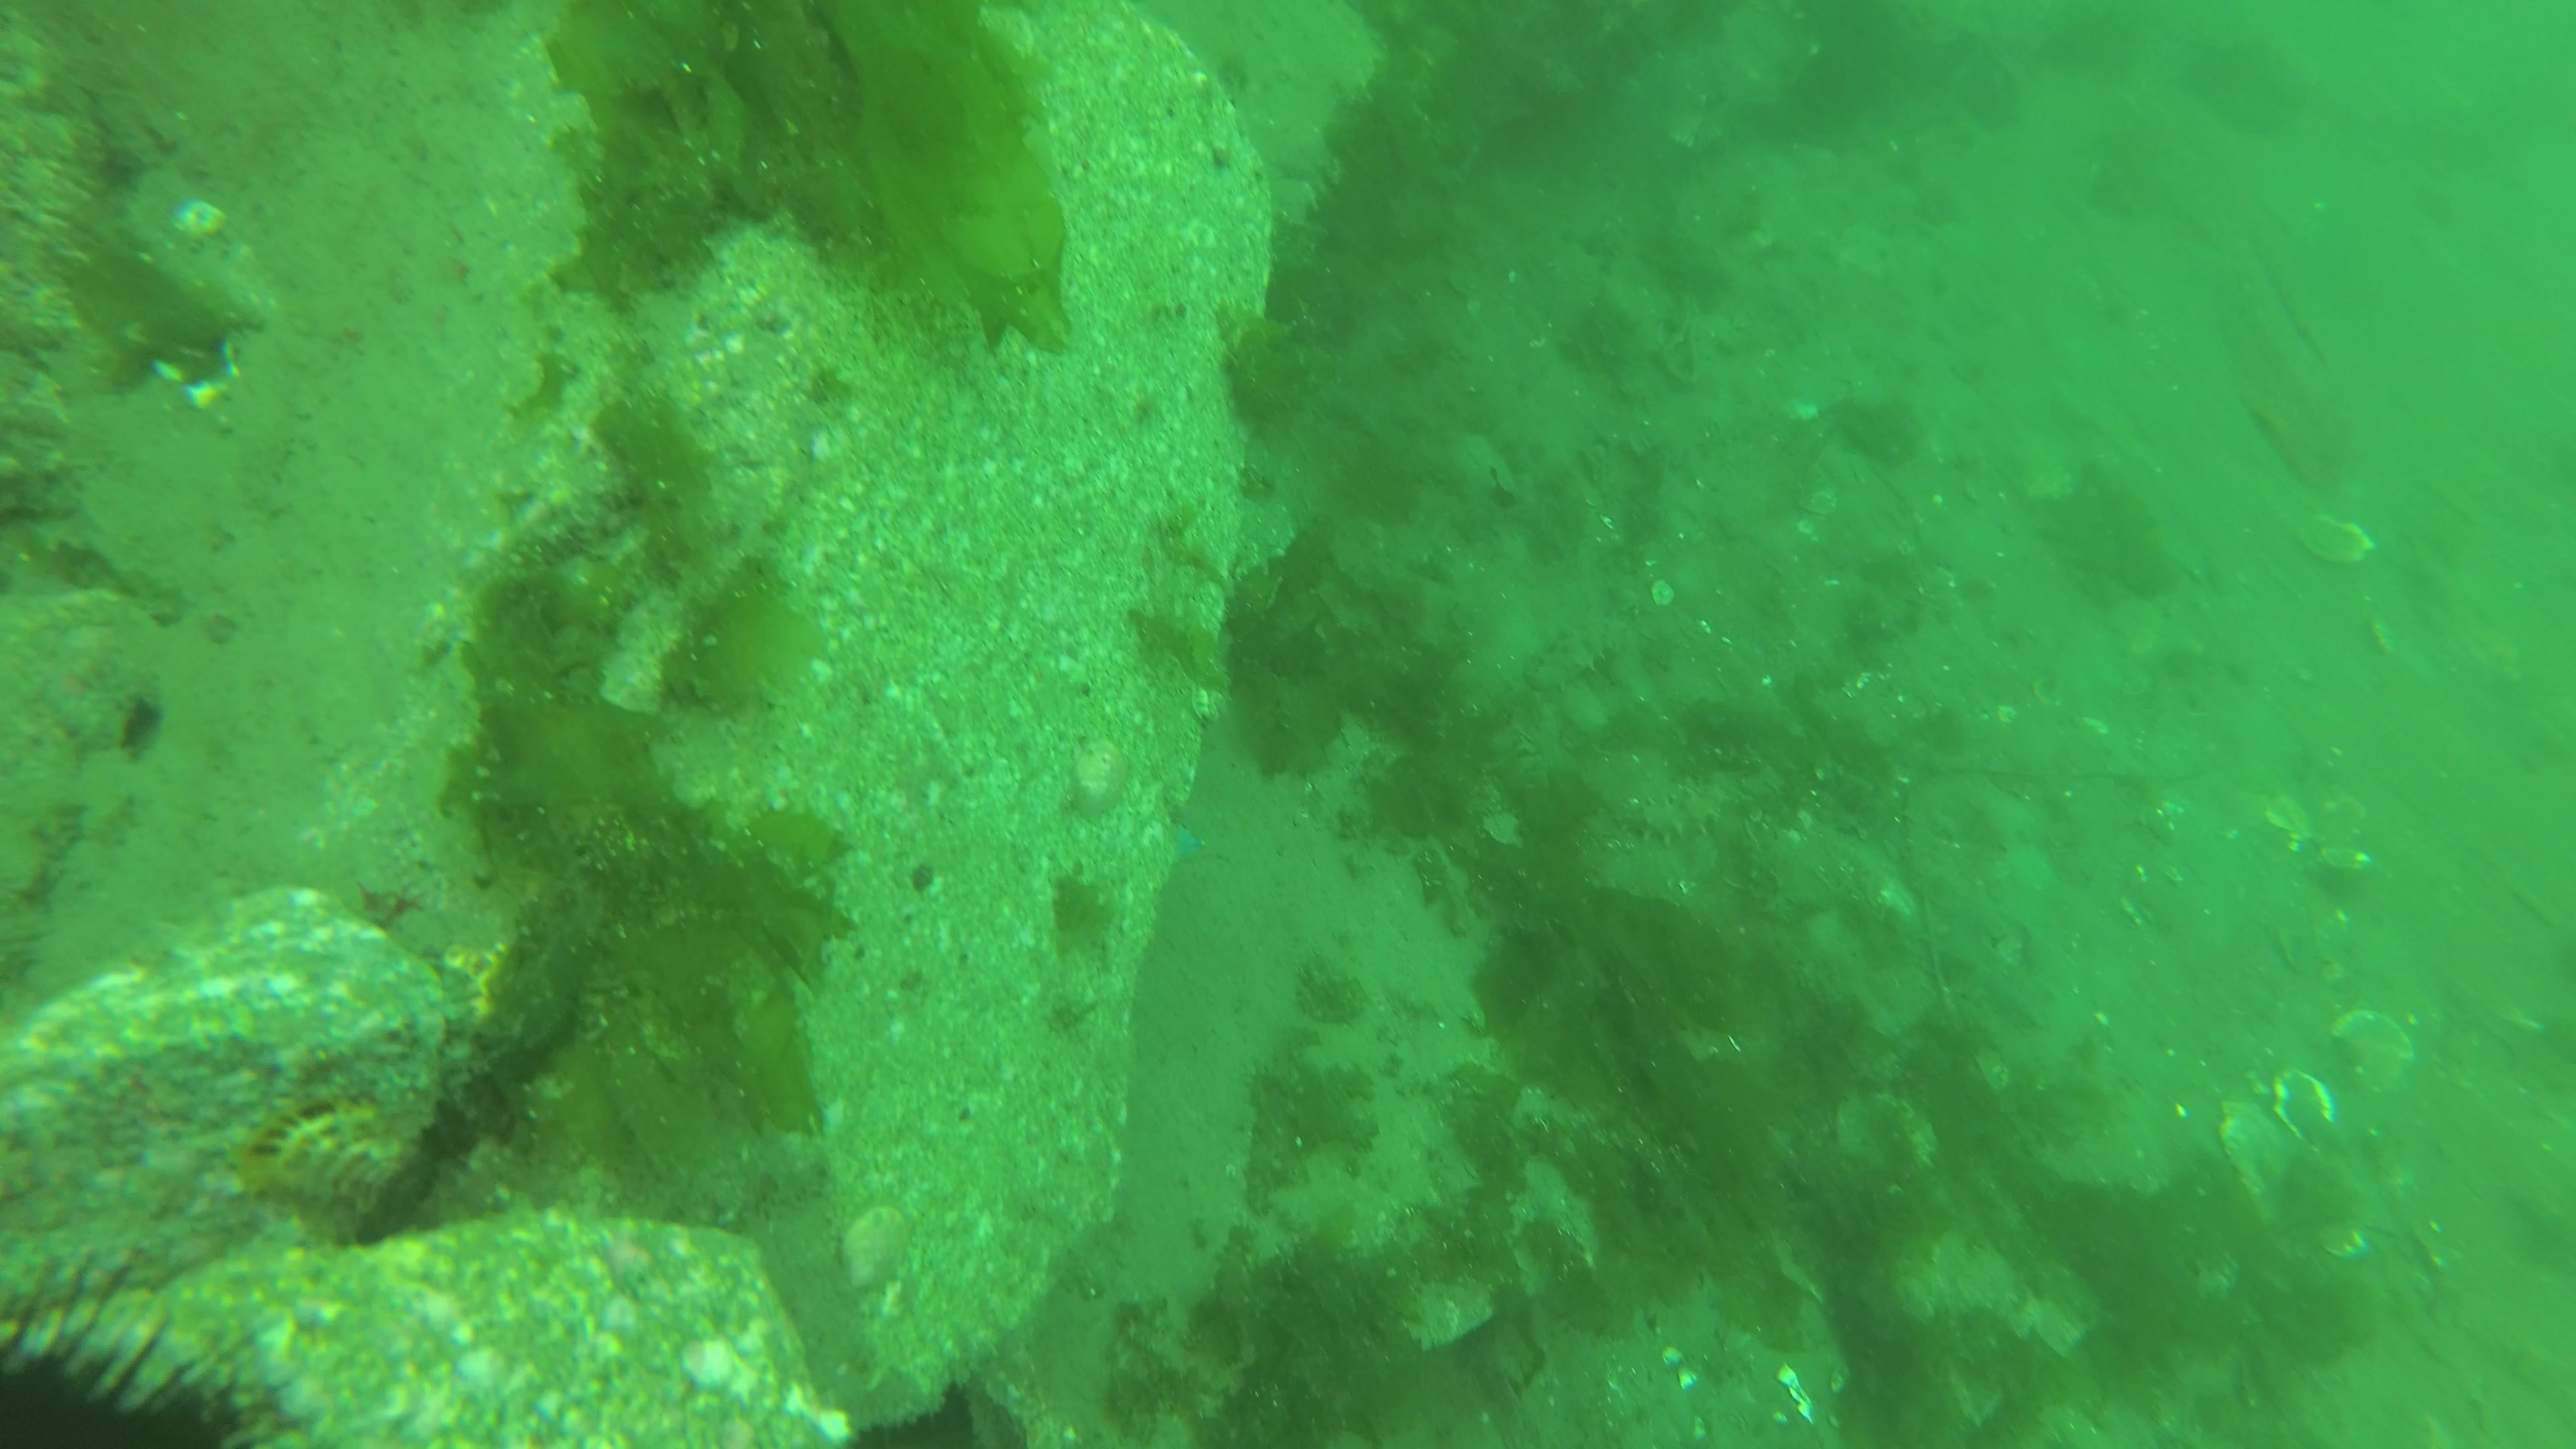holothurian: (1514, 610, 1633, 697), (1596, 780, 1737, 849)
